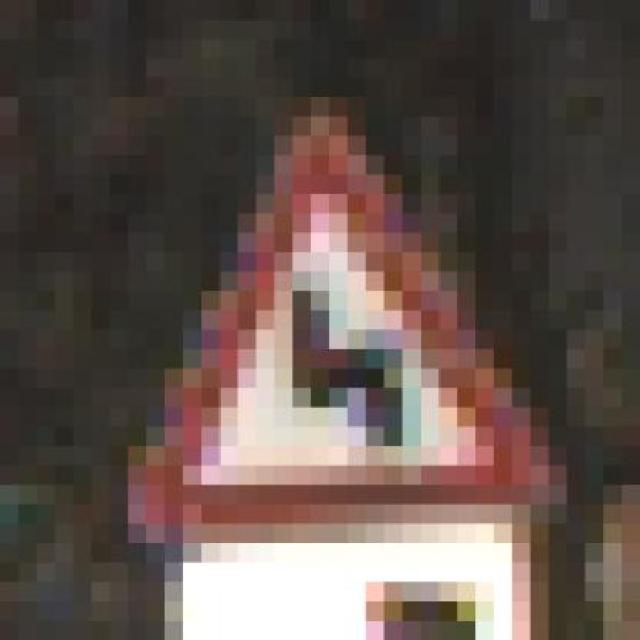Left Zig Zag Traffic: (92, 97, 586, 543)
